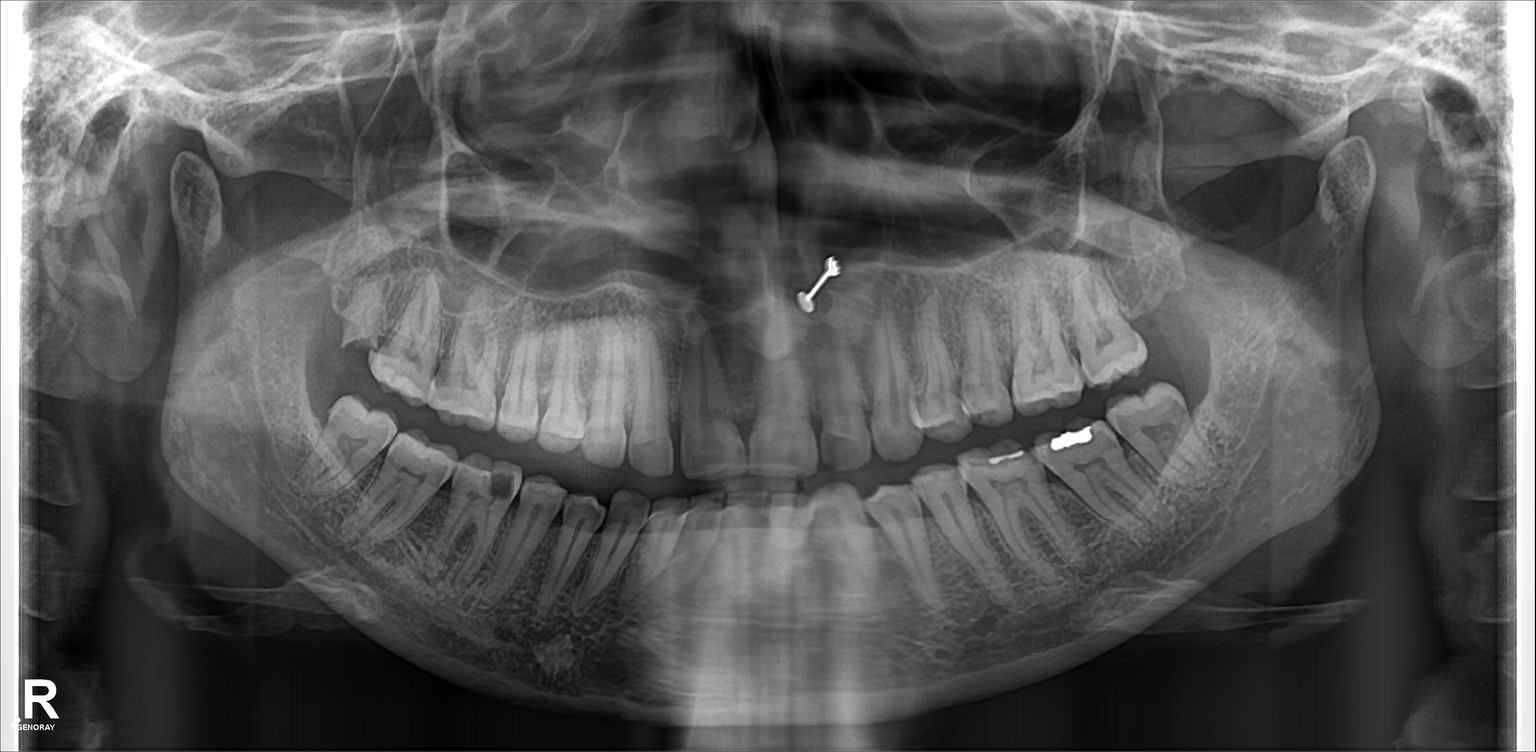Dental Caries: (488, 471, 517, 498)
Missing Tooth: (1130, 238, 1195, 372)
Retained Root: (328, 261, 378, 381)
